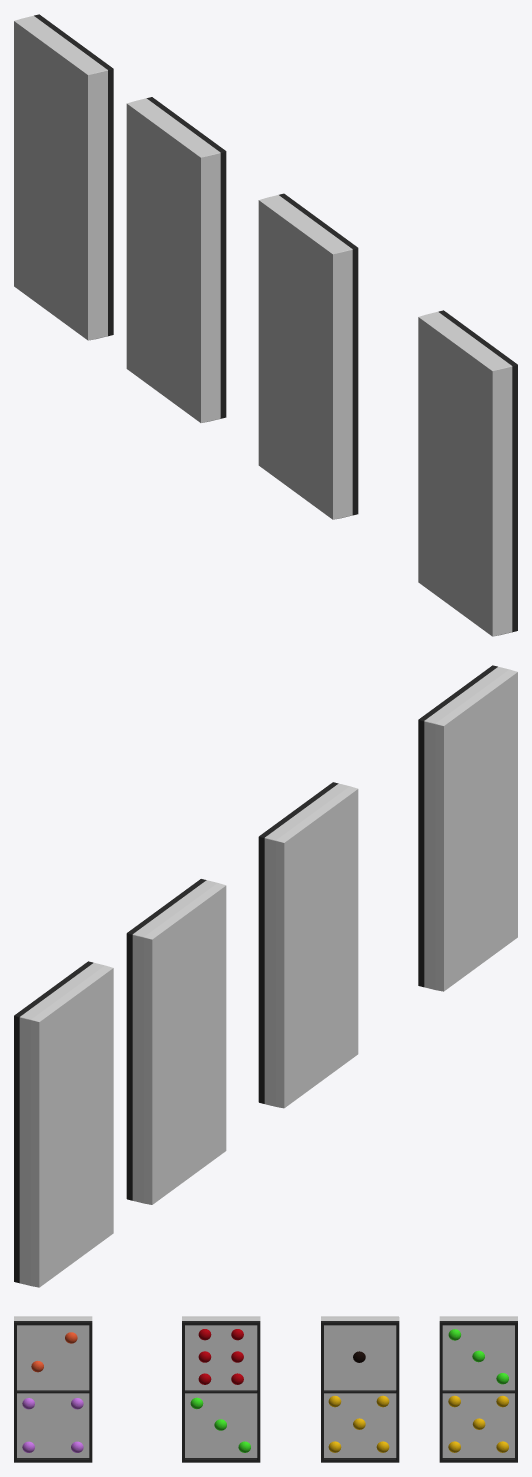
The model's file is Domino.fbx.
The picture shows the model from 3 angles, top to bottom: view 1: azimuth 30°, elevation 25°; view 2: azimuth 150°, elevation 25°; view 3: azimuth 270°, elevation 25°; orthographic projection. The views are drawn at different scales.
Parts seen in each view (by area): view 1: Cube.001, Cube.002, Cube, Cube.003; view 2: Cube.002, Cube.001, Cube.003, Cube; view 3: Cube, Cube.001, Cube.003, Cube.002.
Boxes of the visible parts, <box> form: Cube.001: <box>258,193,358,519</box>; Cube.002: <box>126,97,226,422</box>; Cube: <box>418,310,517,636</box>; Cube.003: <box>14,14,113,340</box>; Cube.002: <box>126,879,226,1204</box>; Cube.001: <box>258,782,358,1108</box>; Cube.003: <box>14,961,113,1287</box>; Cube: <box>418,665,517,991</box>; Cube: <box>14,1316,92,1462</box>; Cube.001: <box>182,1316,260,1462</box>; Cube.003: <box>439,1316,517,1462</box>; Cube.002: <box>321,1316,399,1462</box>.
Bounding box in the file's own units: 35.63 × 357 × 1163.
